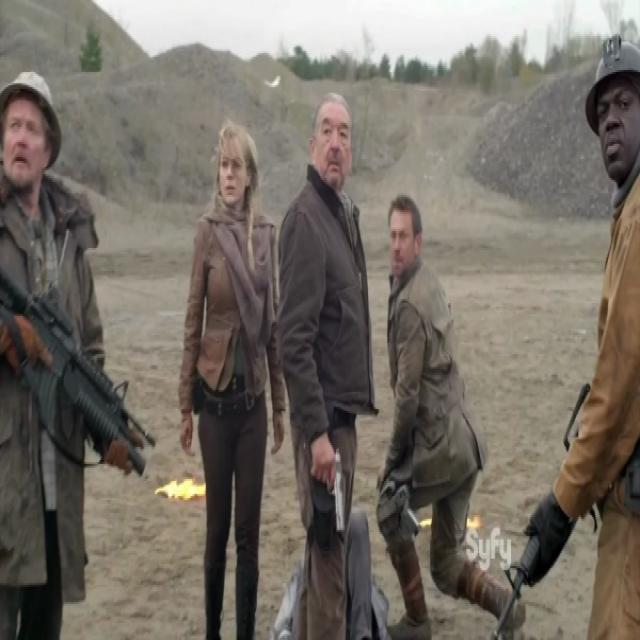rifle: (1, 260, 162, 489), (490, 532, 544, 640)
